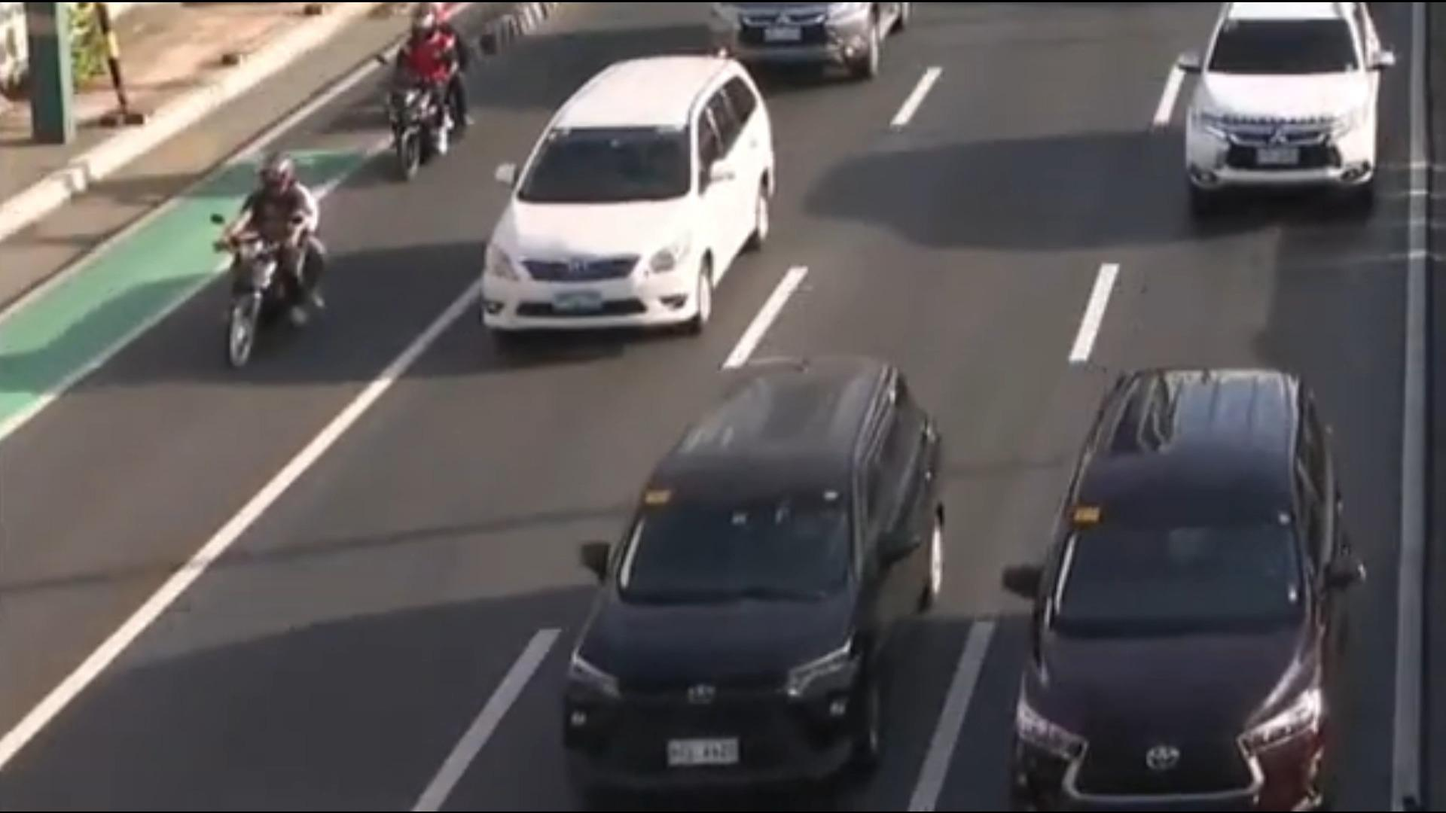Motorcycle: (224, 153, 323, 367), (390, 0, 465, 183)
SUV: (551, 352, 969, 813), (1009, 362, 1370, 813), (477, 54, 783, 346), (1179, 0, 1396, 205)
